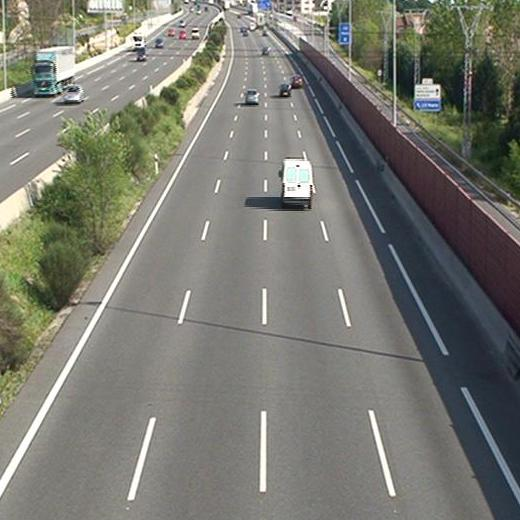car: (245, 90, 258, 103), (291, 74, 303, 87), (279, 84, 290, 96)
van: (281, 159, 312, 205)
